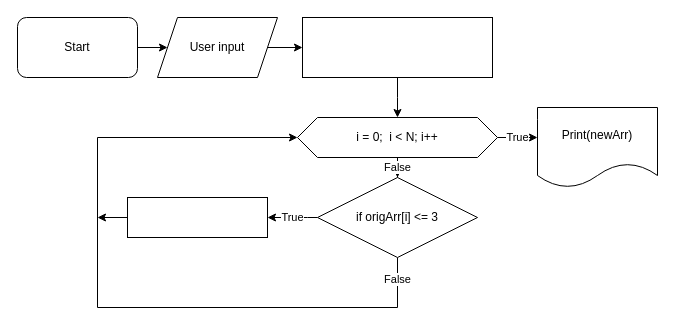
The diagram is 675 pixels wide and 333 high, and some of its shapes have lost their labels. Each missing label, with the centre of its shape:
"newArr[ j ] = origArr[ i ] j++" goes at (197,217).
"origArr = [User input] N = origArr.Length newArr = [ N ] j = 0" goes at (397,47).
